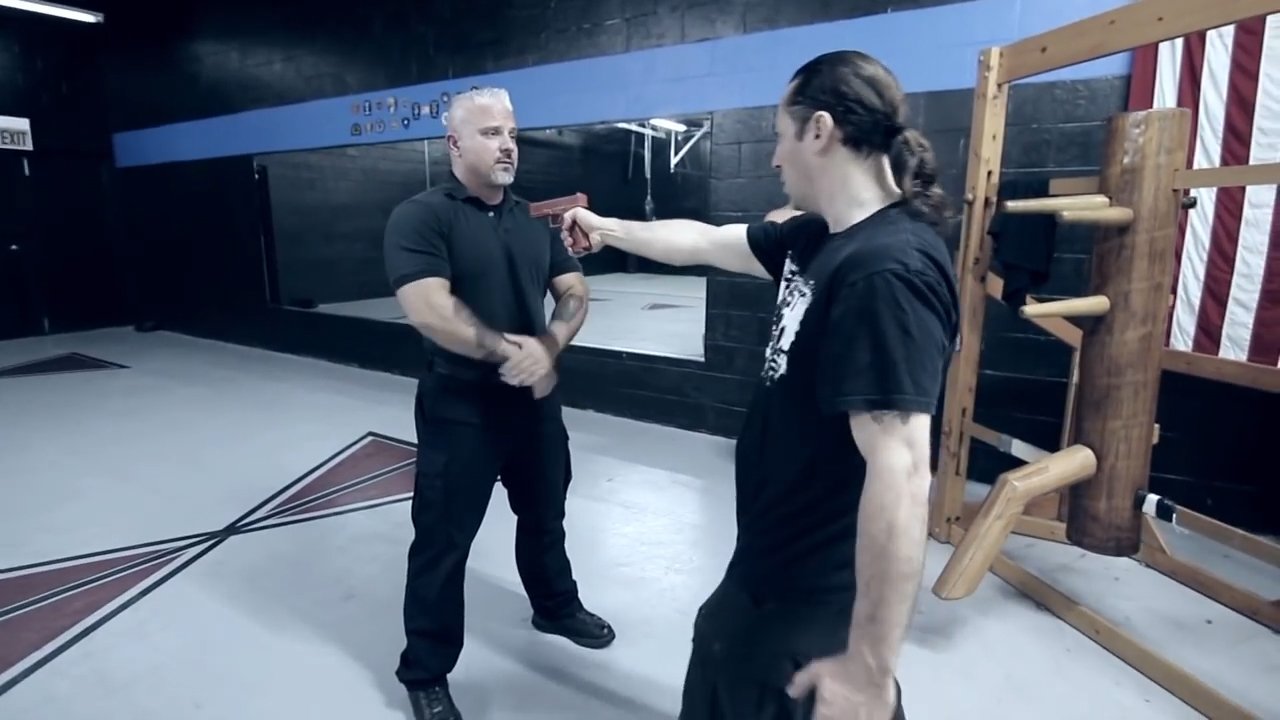pistol: (527, 190, 594, 254)
